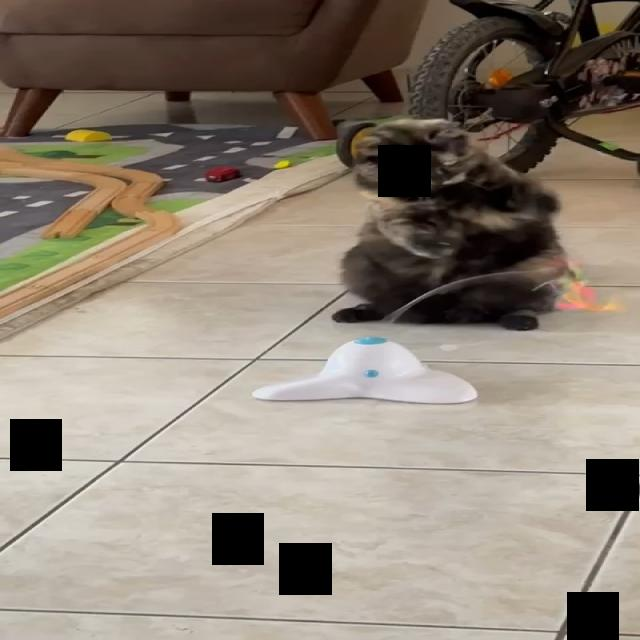authorized: (329, 116, 575, 331)
